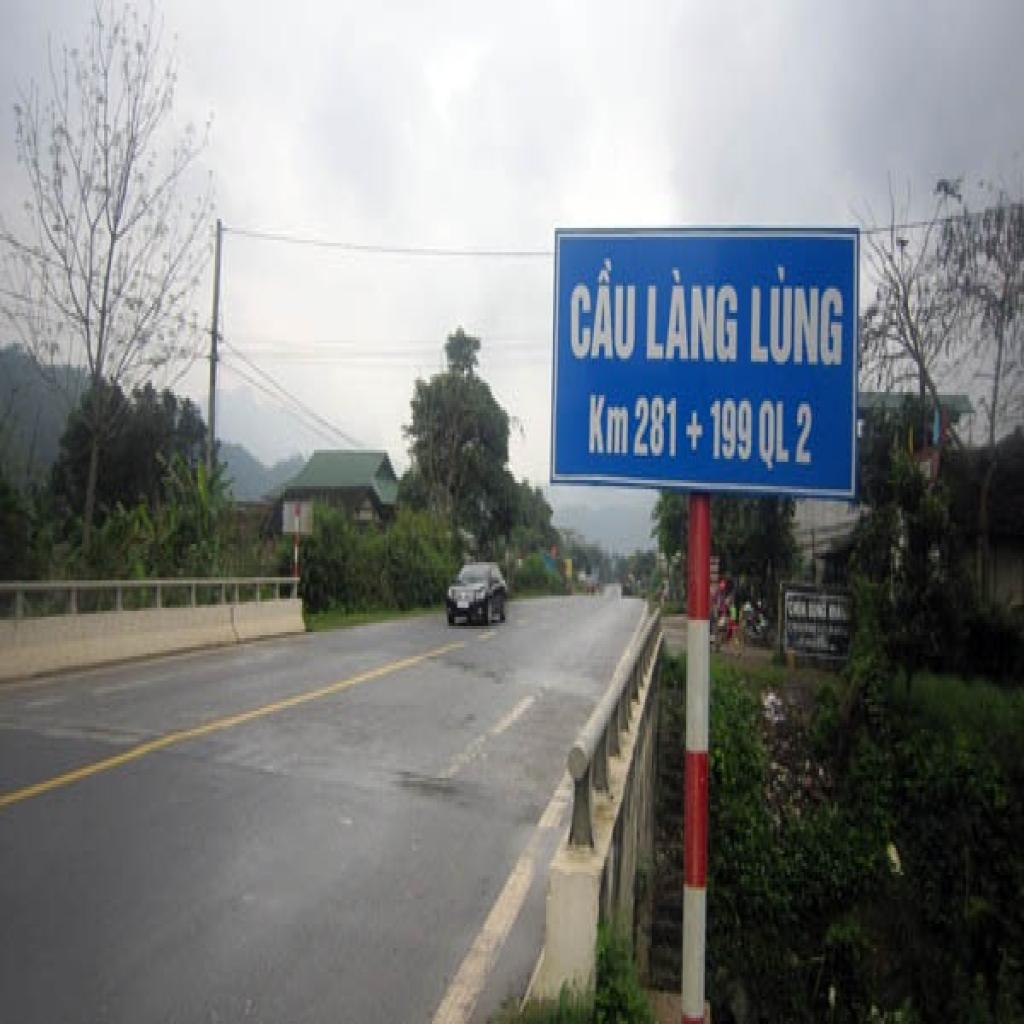text: (746, 261, 848, 377), (643, 264, 741, 371), (567, 255, 640, 368), (630, 389, 681, 465), (708, 395, 756, 468), (587, 389, 632, 462), (758, 392, 794, 474)
